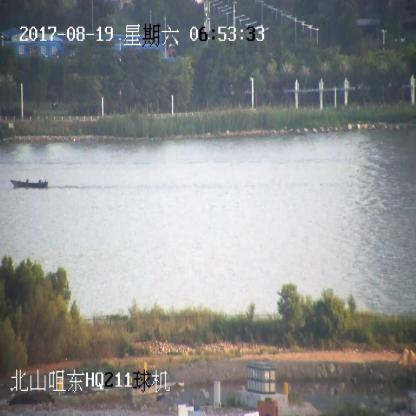Fishing Boat: (11, 177, 48, 189)
